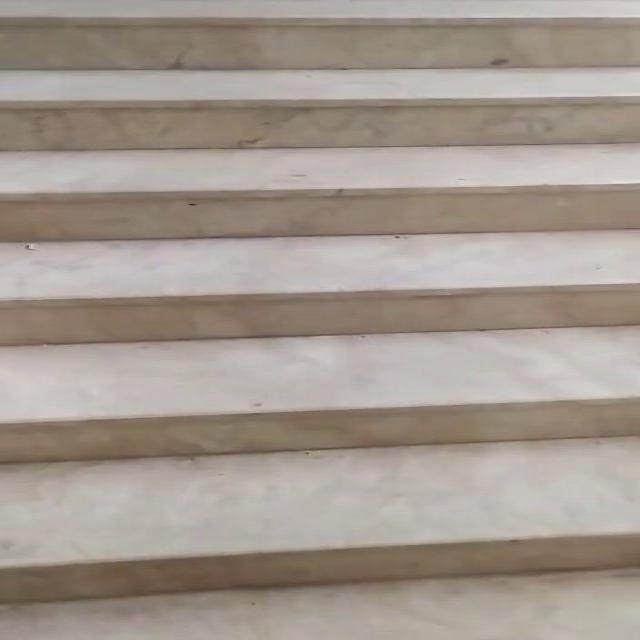stair: (12, 10, 640, 571)
